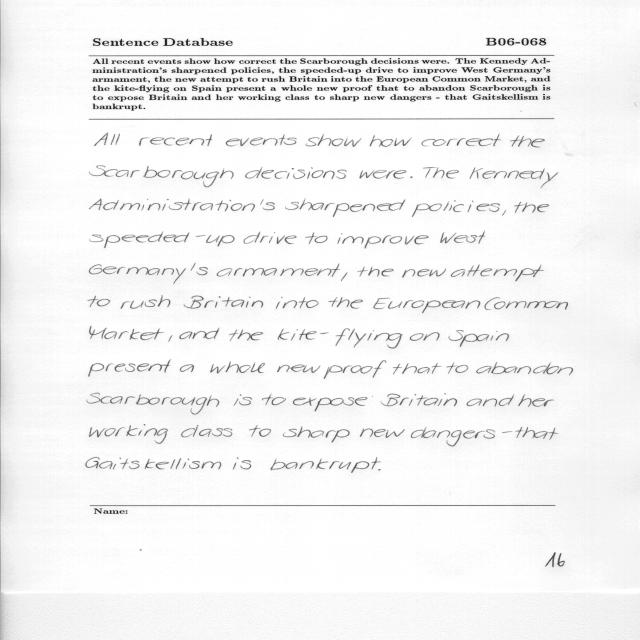word: (90, 166, 234, 187), (87, 393, 219, 414), (89, 263, 208, 284), (278, 329, 402, 349), (89, 199, 275, 212), (90, 232, 235, 248), (285, 199, 405, 217), (470, 168, 559, 189), (271, 457, 381, 473), (86, 457, 221, 470), (217, 263, 340, 277), (411, 427, 495, 447), (374, 298, 481, 313), (451, 265, 544, 282), (89, 424, 168, 444), (412, 200, 500, 217), (89, 360, 171, 377), (337, 234, 429, 249), (476, 362, 573, 376), (245, 167, 347, 179), (293, 396, 373, 411), (324, 360, 386, 379), (283, 426, 350, 443), (485, 297, 569, 310), (421, 134, 502, 147), (90, 326, 164, 340), (184, 296, 263, 309), (449, 330, 509, 347), (381, 393, 457, 406), (139, 134, 213, 146), (226, 135, 297, 147), (306, 134, 362, 147), (210, 361, 265, 374), (121, 295, 171, 309), (244, 232, 297, 244), (467, 394, 515, 407), (181, 425, 232, 437), (441, 231, 486, 244), (515, 427, 558, 440), (393, 363, 442, 374), (276, 297, 319, 309), (370, 135, 412, 147), (179, 328, 220, 339), (360, 428, 405, 438), (423, 167, 459, 179), (518, 395, 554, 407), (360, 170, 407, 179), (510, 136, 545, 148), (328, 297, 363, 309), (229, 330, 263, 342), (402, 269, 446, 278), (277, 364, 320, 373), (514, 202, 549, 213), (357, 267, 394, 277), (95, 133, 120, 146), (410, 332, 440, 341), (262, 394, 286, 405), (249, 425, 271, 437), (305, 233, 328, 244), (88, 296, 110, 307), (447, 363, 469, 374), (233, 457, 251, 470), (234, 394, 252, 406), (180, 364, 194, 372), (341, 273, 348, 282), (169, 335, 173, 342), (502, 210, 506, 216), (502, 431, 512, 433), (410, 177, 413, 179), (378, 469, 381, 471)
